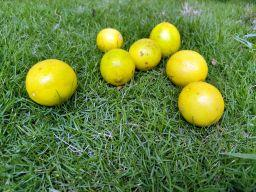lemon: (24, 56, 79, 108), (175, 79, 226, 129), (165, 47, 210, 88), (98, 47, 139, 87), (146, 20, 182, 59), (128, 37, 163, 72), (95, 26, 125, 55)
